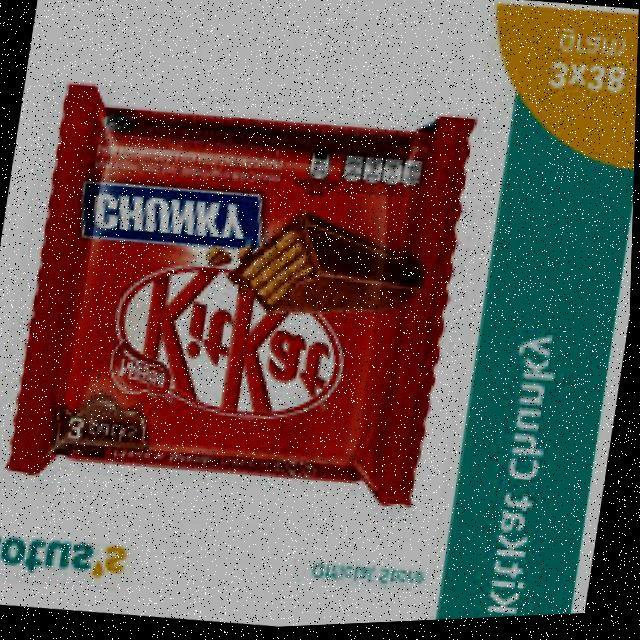kitkat_chocolate: (55, 85, 438, 513)
